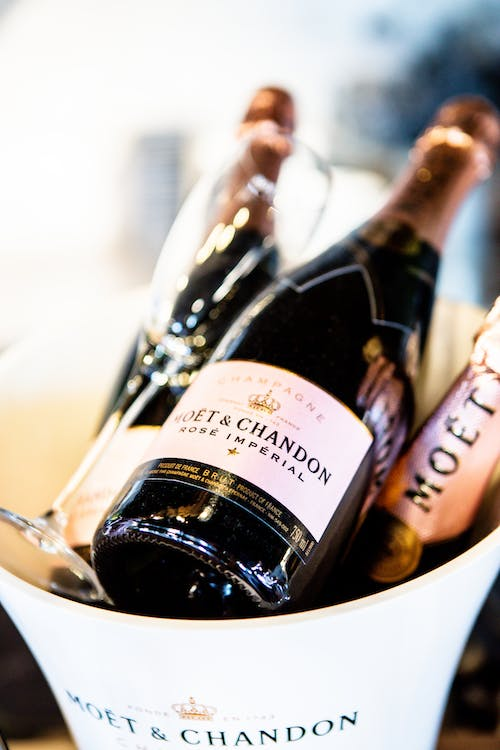alcohol: (88, 91, 500, 620), (47, 83, 298, 611), (304, 292, 500, 612)
